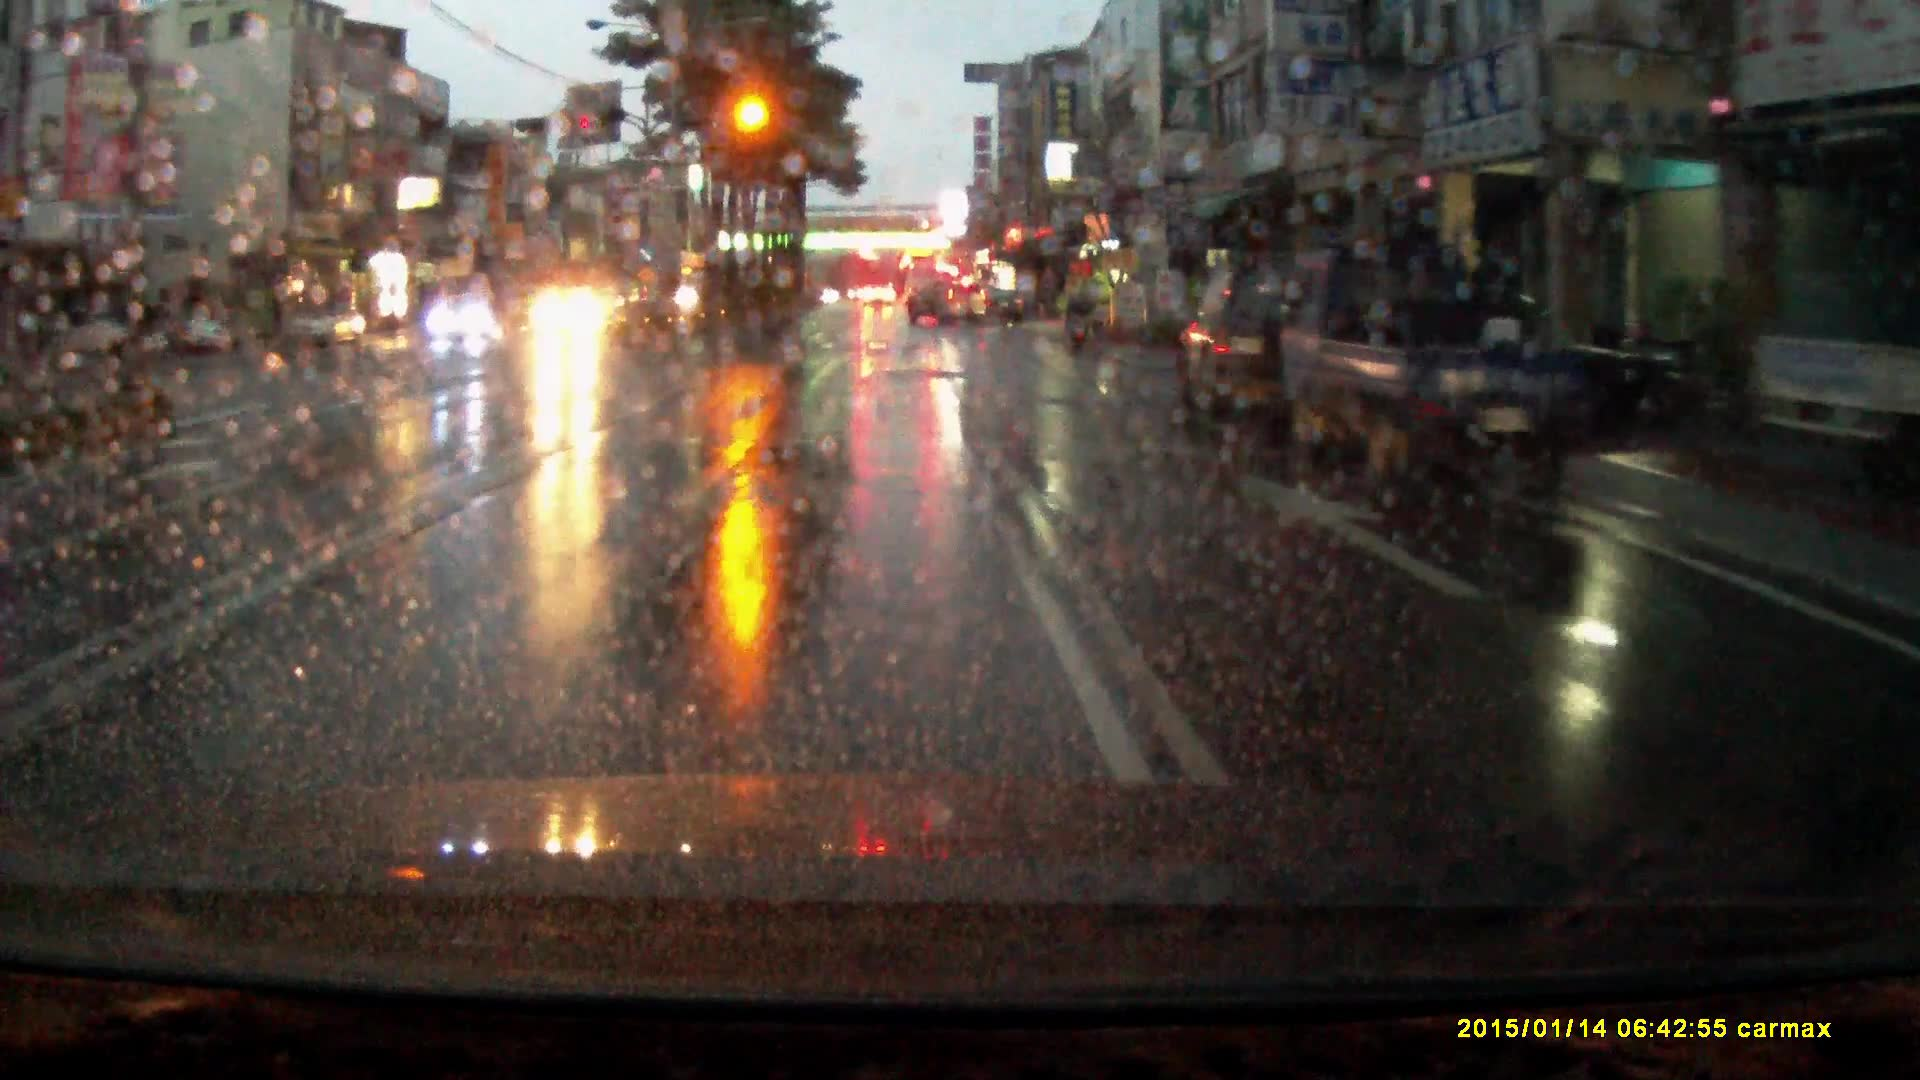vehicle: (1292, 237, 1600, 489), (1182, 260, 1298, 436), (41, 307, 149, 364), (533, 287, 612, 351), (286, 299, 371, 353), (907, 277, 986, 326), (429, 295, 498, 344), (171, 305, 231, 357), (905, 258, 942, 306), (985, 287, 1025, 324), (862, 280, 898, 309)
